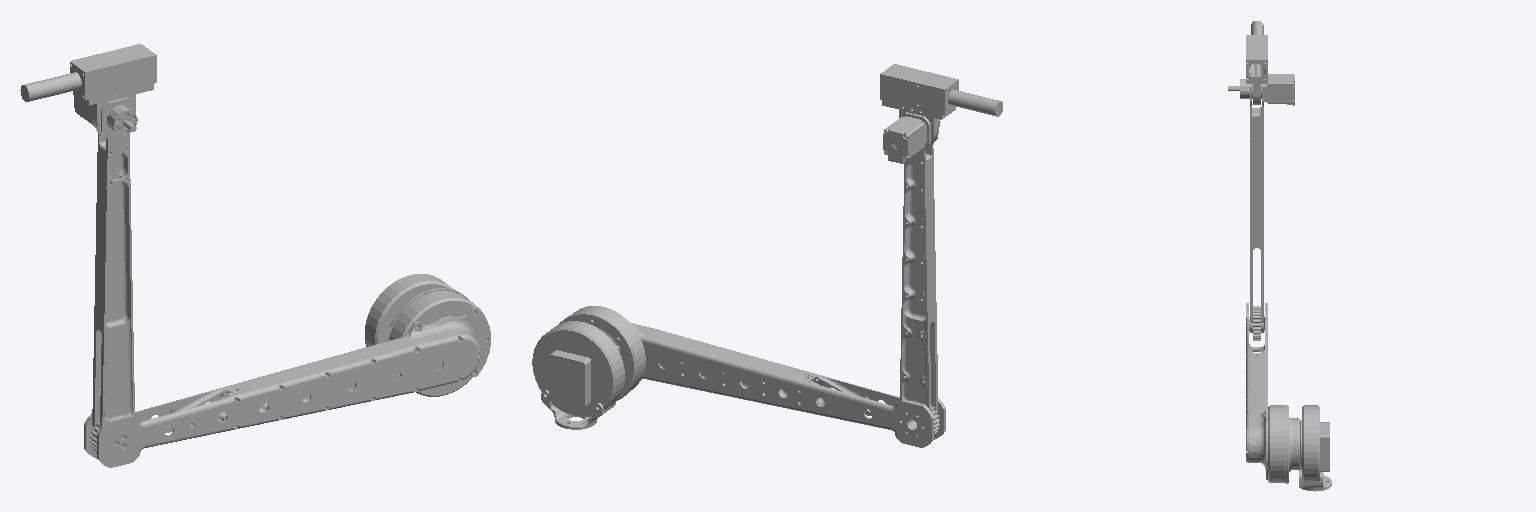
URDF robot description (ranch_rover):
<?xml version="1.0" encoding="utf-8"?>
<!-- =================================================================================== -->
<!-- |    This document was autogenerated by xacro from robot_controlsim_v2.xacro      | -->
<!-- |    EDITING THIS FILE BY HAND IS NOT RECOMMENDED                                 | -->
<!-- =================================================================================== -->
<robot name="ranch_rover">
  <!-- First link of the robot. Corresponds to the robot main frame. -->
  <link name="link_chassis">
    <pose> 0 0 0 0 0 0 </pose>
    <inertial>
      <mass value="24.5"/> 
      <origin rpy="0 0 0" xyz="0.0052 -0.0009 0.0050"/>
      <inertia ixx="0.729" ixy="0.0029" ixz="-0.0160" iyx="0.0029" iyy="0.4254" iyz="0.0028" izx="-0.0160" izy="0.0028" izz="1.008"/>
    </inertial>
    <collision>
      <geometry>
	<mesh filename="../meshes/link_chassis.STL" scale="0.001 0.001 0.001"/>
      </geometry>
      <origin rpy="0 0 0" xyz="0 0 0"/>
    </collision>
    <visual name="vis1">
      <origin rpy="0 0 0" xyz="0 0 0"/>
      <geometry>
        <mesh filename="../meshes/link_chassis.STL" scale="0.001 0.001 0.001"/>
      </geometry>
    </visual>
  </link>

  <!-- LINK_1 -->
  <link name="Link_1">
    <inertial>
      <origin rpy="0 0 0" xyz="2.74225442931497E-06 -0.00353778613018245 0.0515804512927737"/>
      <mass value="0.507852532624306"/>
      <inertia ixx="0.000305049101665729" ixy="1.46296943748327E-09" ixz="-1.23302173450347E-08" iyy="0.000527056723286848" iyz="4.68473207349431E-06" izz="0.000309137354236652"/>
    </inertial>
    <visual>
      <origin rpy="0 0 0" xyz="0 0 0"/>
      <geometry>
        <mesh filename="../meshes/Link_1.STL"/>
      </geometry>
      <material name="">
        <color rgba="0.752941176470588 0.752941176470588 0.752941176470588 1"/>
      </material>
    </visual>
    <collision>
      <origin rpy="0 0 0" xyz="0 0 0"/>
      <geometry>
        <mesh filename="../meshes/Link_1.STL"/>
      </geometry>
    </collision>
  </link>
  <joint name="Joint_1" type="revolute">
    <origin rpy="0 0 0" xyz="0.190 -0.033 0.196"/>
    <parent link="link_chassis"/>
    <child link="Link_1"/>
    <axis xyz="0 0 1"/>
    <limit effort="17" lower="-3.1415" upper="3.1415" velocity="40"/>
    <dynamics damping="0.0" friction="0.09"/>
  </joint>
  <transmission name="trans_Joint_1">
    <type>transmission_interface/SimpleTransmission</type>
    <joint name="Joint_1">
      <hardwareInterface>hardware_interface/EffortJointInterface</hardwareInterface>
    </joint>
    <actuator name="motor_Joint_1">
      <hardwareInterface>hardware_interface/EffortJointInterface</hardwareInterface>
      <mechanicalReduction>1</mechanicalReduction>
    </actuator>
  </transmission>
  <!-- LINK_2 -->
  <link name="Link_2">
    <inertial>
      <origin rpy="0 0 0" xyz="0.058405779904307 2.0203040740352E-08 0.0339456863545732"/>
      <mass value="0.81308899959476"/>
      <inertia ixx="0.000388392439322651" ixy="-9.54214032854378E-10" ixz="1.27795112061735E-05" iyy="0.00467218660610504" iyz="-8.84832562194152E-11" izz="0.00496730197895087"/>
    </inertial>
    <visual>
      <origin rpy="0 0 0" xyz="0 0 0"/>
      <geometry>
        <mesh filename="../meshes/Link_2.STL"/>
      </geometry>
      <material name="">
        <color rgba="0.752941176470588 0.752941176470588 0.752941176470588 1"/>
      </material>
    </visual>
    <collision>
      <origin rpy="0 0 0" xyz="0 0 0"/>
      <geometry>
        <mesh filename="../meshes/Link_2.STL"/>
      </geometry>
    </collision>
  </link>
  <joint name="Joint_2" type="revolute">
    <origin rpy="-1.5707963267949 0 3.14159265358979" xyz="0 -0.019 0.0545"/>
    <parent link="Link_1"/>
    <child link="Link_2"/>
    <axis xyz="0 0 1"/>
    <limit effort="17" lower="-3.1415" upper="0" velocity="40"/>
    <dynamics damping="0.0" friction="0.09"/>
  </joint>
  <transmission name="trans_Joint_2">
    <type>transmission_interface/SimpleTransmission</type>
    <joint name="Joint_2">
      <hardwareInterface>hardware_interface/EffortJointInterface</hardwareInterface>
    </joint>
    <actuator name="motor_Joint_2">
      <hardwareInterface>hardware_interface/EffortJointInterface</hardwareInterface>
      <mechanicalReduction>1</mechanicalReduction>
    </actuator>
  </transmission>
  <!-- LINK_3 -->
  <link name="Link_3">
    <inertial>
      <origin rpy="0 0 0" xyz="0.232598222729073 -9.20818372995846E-07 -0.00955342978657184"/>
      <mass value="0.336944931620173"/>
      <inertia ixx="3.67648841212008E-05" ixy="-9.59389619481419E-11" ixz="-1.81657115526022E-06" iyy="0.00138520509069701" iyz="2.76629218451524E-12" izz="0.00140450563412969"/>
    </inertial>
    <visual>
      <origin rpy="0 0 0" xyz="0 0 0"/>
      <geometry>
        <mesh filename="../meshes/Link_3.STL"/>
      </geometry>
      <material name="">
        <color rgba="0.752941176470588 0.752941176470588 0.752941176470588 1"/>
      </material>
    </visual>
    <collision>
      <origin rpy="0 0 0" xyz="0 0 0"/>
      <geometry>
        <mesh filename="../meshes/Link_3.STL"/>
      </geometry>
    </collision>
  </link>
  <joint name="Joint_3" type="revolute">
    <origin rpy="0 0 -1.5708" xyz="0.352 0 0.05275"/>
    <parent link="Link_2"/>
    <child link="Link_3"/>
    <axis xyz="0 0 1"/>
    <limit effort="17" lower="-1.0472" upper="2.6" velocity="40"/>
    <dynamics damping="0.0" friction="0.09"/>
  </joint>
  <transmission name="trans_Joint_3">
    <type>transmission_interface/SimpleTransmission</type>
    <joint name="Joint_3">
      <hardwareInterface>hardware_interface/EffortJointInterface</hardwareInterface>
    </joint>
    <actuator name="motor_Joint_3">
      <hardwareInterface>hardware_interface/EffortJointInterface</hardwareInterface>
      <mechanicalReduction>1</mechanicalReduction>
    </actuator>
  </transmission>
  <!-- LINK_4 -->
  <link name="Link_4">
    <inertial>
      <origin rpy="0 0 0" xyz="0.0322792079054944 0.0215434702240224 1.30818635455249E-05"/>
      <mass value="0.213921465907275"/>
      <inertia ixx="5.72875335800106E-05" ixy="-2.1737619349779E-09" ixz="-2.22685486617804E-08" iyy="2.96741933821847E-05" iyz="1.83334792134304E-09" izz="6.54238610234211E-05"/>
    </inertial>
    <visual>
      <origin rpy="0 0 0" xyz="0 0 0"/>
      <geometry>
        <mesh filename="../meshes/Link_4.STL"/>
      </geometry>
      <material name="">
        <color rgba="0.752941176470588 0.752941176470588 0.752941176470588 1"/>
      </material>
    </visual>
    <collision>
      <origin rpy="0 0 0" xyz="0 0 0"/>
      <geometry>
        <mesh filename="../meshes/Link_4.STL"/>
      </geometry>
    </collision>
  </link>
  <joint name="Joint_4" type="revolute">
    <origin rpy="0 0 0" xyz="0.32 0 0"/>
    <parent link="Link_3"/>
    <child link="Link_4"/>
    <axis xyz="0 0 1"/>
    <limit effort="2.268" lower="-1.571" upper="1.571" velocity="0.319"/>
    <dynamics damping="0.0" friction="0.09"/>
  </joint>
  <transmission name="trans_Joint_4">
    <type>transmission_interface/SimpleTransmission</type>
    <joint name="Joint_4">
      <hardwareInterface>hardware_interface/VelocityJointInterface</hardwareInterface>
    </joint>
    <actuator name="motor_Joint_4">
      <hardwareInterface>hardware_interface/VelocityJointInterface</hardwareInterface>
      <mechanicalReduction>1</mechanicalReduction>
    </actuator>
  </transmission>

</robot>

--- Facts derived from the render (not from the file) ---
3 views of the same robot in one strip: view 1: azimuth 30°, elevation 25°; view 2: azimuth 150°, elevation 25°; view 3: azimuth 270°, elevation 25° (orthographic).
Model ranch_rover with 5 links and 4 joints (4 revolute), rooted at link_chassis, posed every joint at zero.
Links seen in each view (by area): view 1: Link_2, Link_3, Link_4, Link_1; view 2: Link_2, Link_3, Link_1, Link_4; view 3: Link_2, Link_3, Link_1, Link_4.
Boxes of the visible links, bbox=[...] form: Link_2: bbox=[84, 288, 490, 467]; Link_3: bbox=[74, 95, 137, 453]; Link_4: bbox=[20, 44, 156, 133]; Link_1: bbox=[365, 274, 455, 346]; Link_2: bbox=[559, 306, 945, 447]; Link_3: bbox=[883, 112, 940, 434]; Link_1: bbox=[532, 321, 624, 429]; Link_4: bbox=[880, 64, 1002, 144]; Link_2: bbox=[1246, 303, 1299, 483]; Link_3: bbox=[1228, 74, 1294, 340]; Link_1: bbox=[1299, 405, 1331, 491]; Link_4: bbox=[1246, 21, 1267, 104].
Bounding box of the posed robot: 0.493 × 0.1291 × 0.4305 m (x, y, z).
Meshes: 5 distinct files referenced, 4 mesh visuals loaded (4 binary STL); not drawn: 1 (reference not matched to a file when rendering).